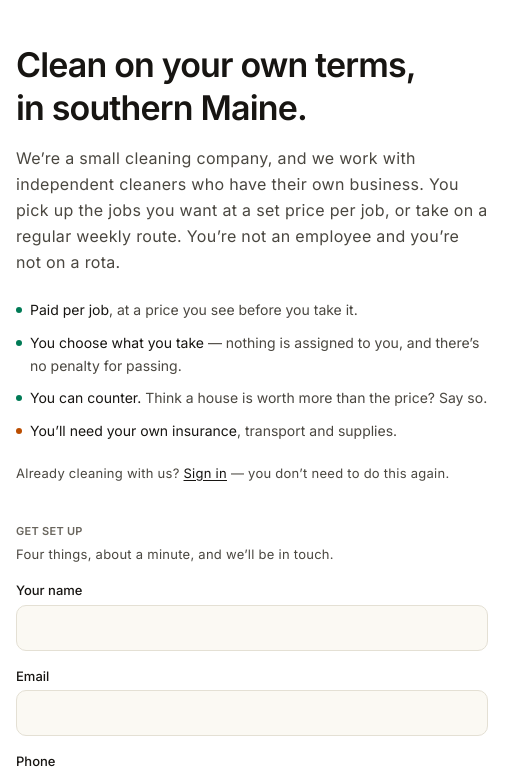
Test: still submits, and only needs a name and an email
Type "Dana Reed" into the field labelled "Your name".
click(252, 628); type("Dana Reed")  # box [16,605,488,651]
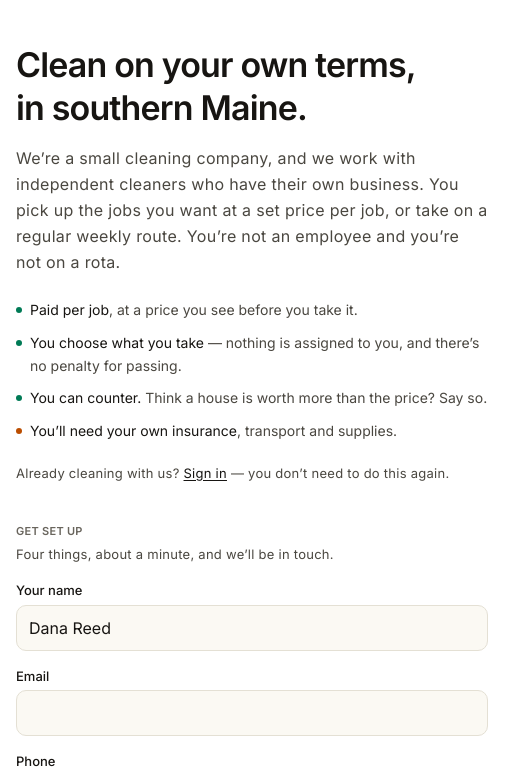
Type "dana@example.com" into the field labelled "Email".
click(252, 713); type("dana@example.com")  # box [16,690,488,736]
(page scrolled)
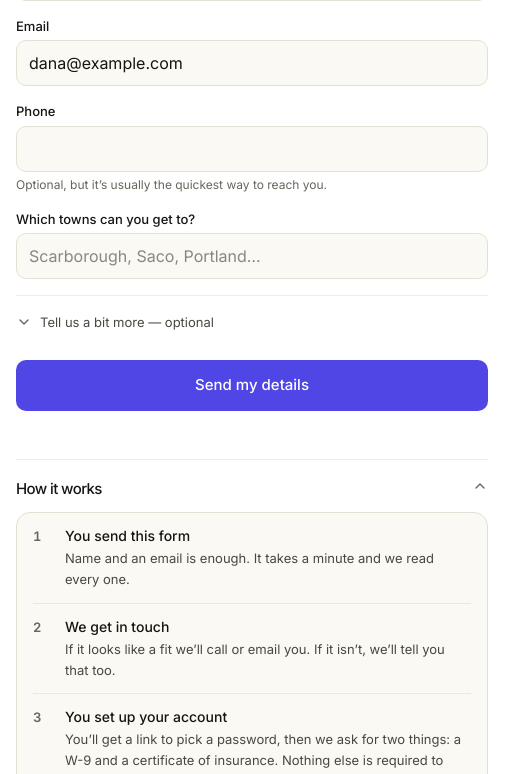
Expected: the button "Send my details" is enabled
Click the button "Send my details".
click(252, 386)  # box [16,360,488,411]
(page scrolled)
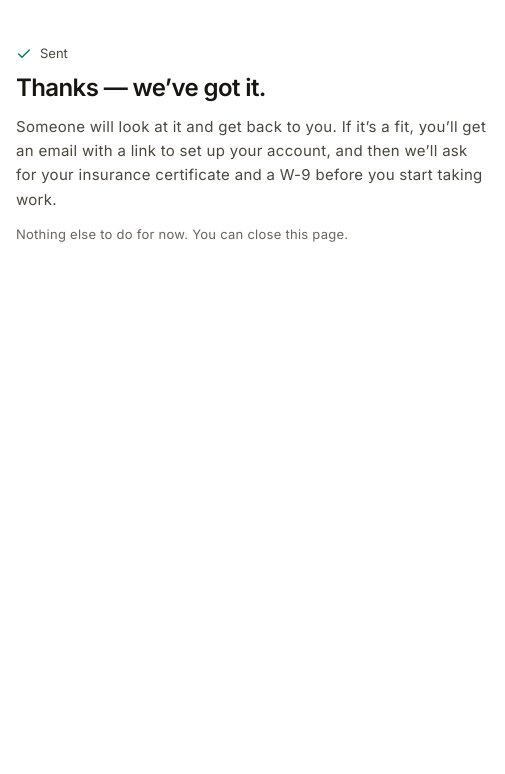
Expected: the heading "Thanks — we’ve got it." is shown, [16,72,266,102]
